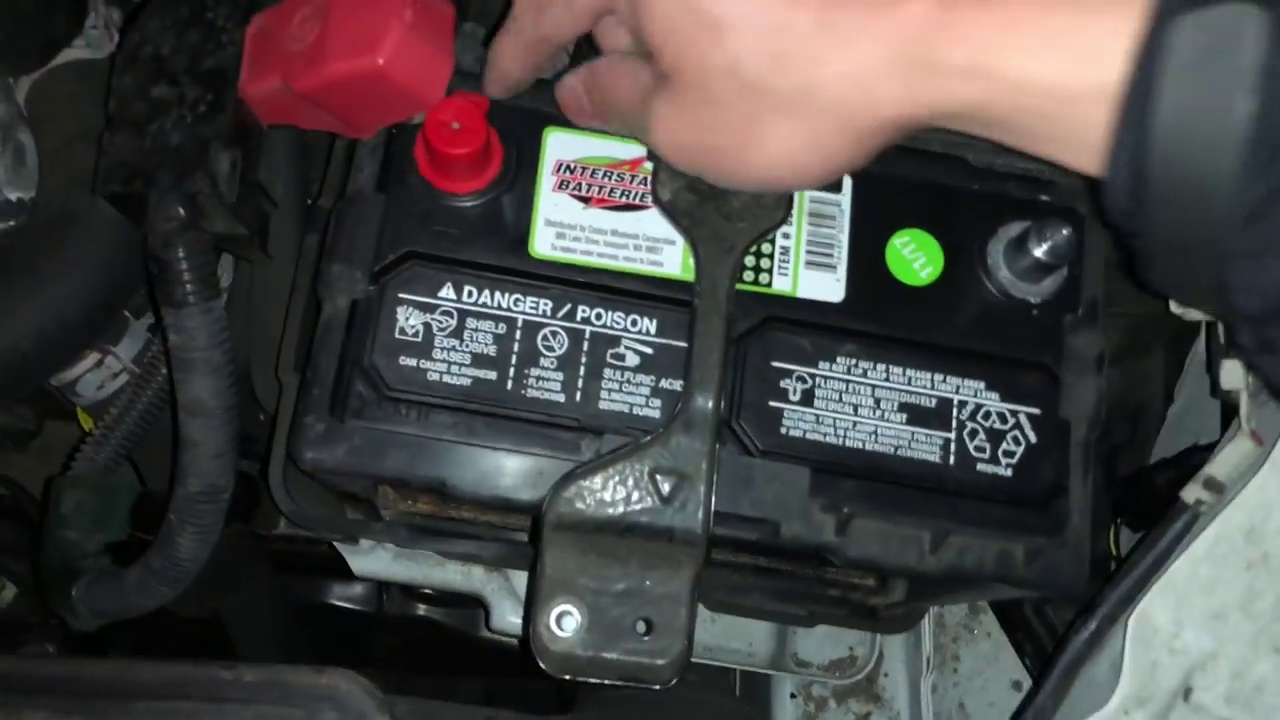battery: (375, 99, 1088, 545)
neg_disconnected: (978, 179, 1087, 327)
pos_disconnected: (239, 25, 506, 201)
